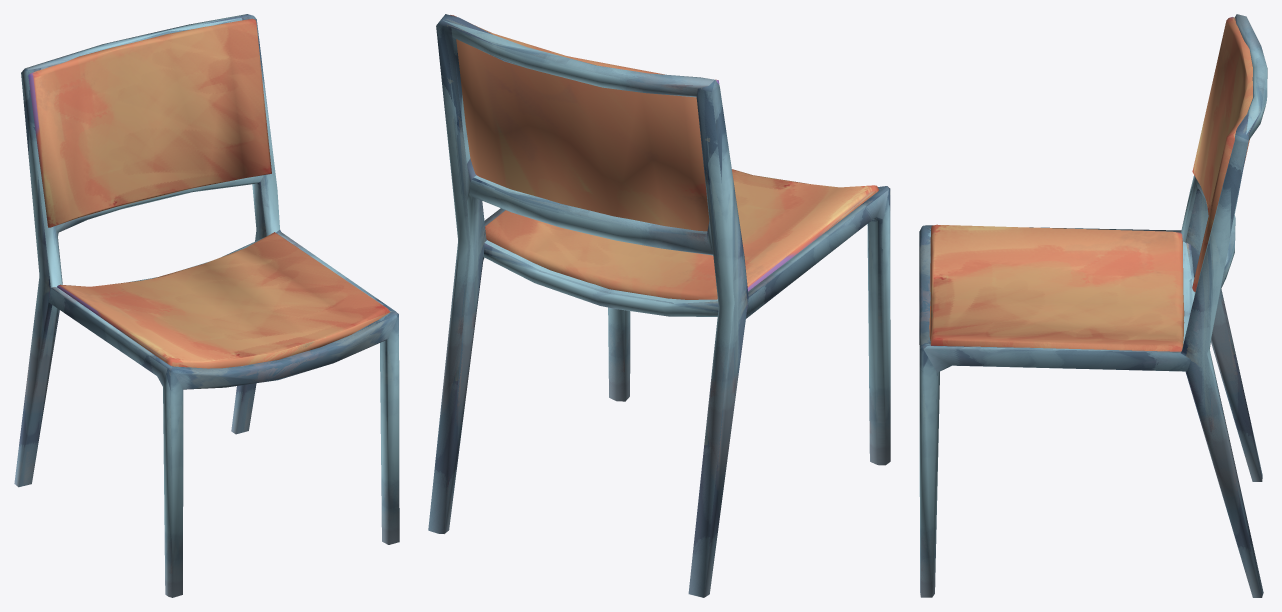
Rendered from LO_cafe_chair.glb.
3 views of the same model, side by side, from view 1: azimuth 30°, elevation 25°; view 2: azimuth 150°, elevation 25°; view 3: azimuth 270°, elevation 25° (orthographic). The views are drawn at different scales.
Visible parts, largest first — view 1: Porto chair.001; view 2: Porto chair.001; view 3: Porto chair.001.
Boxes of the visible parts, left/top/right/bottom form: Porto chair.001: left=14, top=14, right=399, bottom=597; Porto chair.001: left=428, top=14, right=890, bottom=597; Porto chair.001: left=919, top=14, right=1267, bottom=597.
Size of the model in its own units: 0.4697 by 0.8195 by 0.5595.
1 material, 1 textured.
